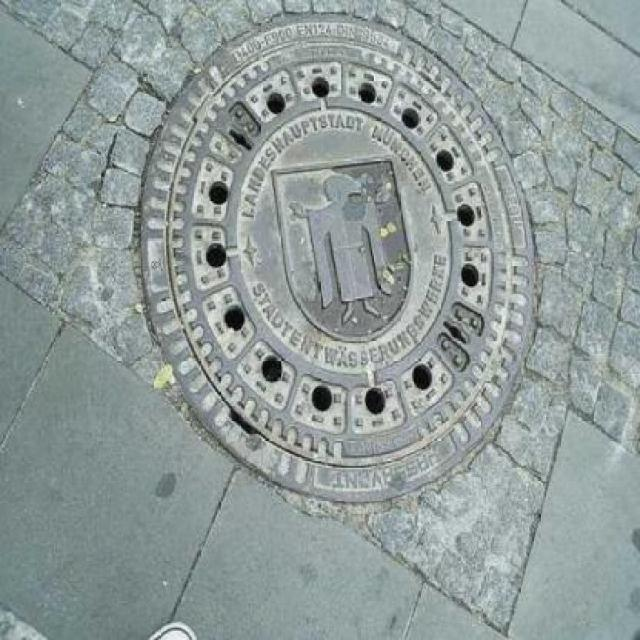Manhole: (107, 6, 564, 514)
